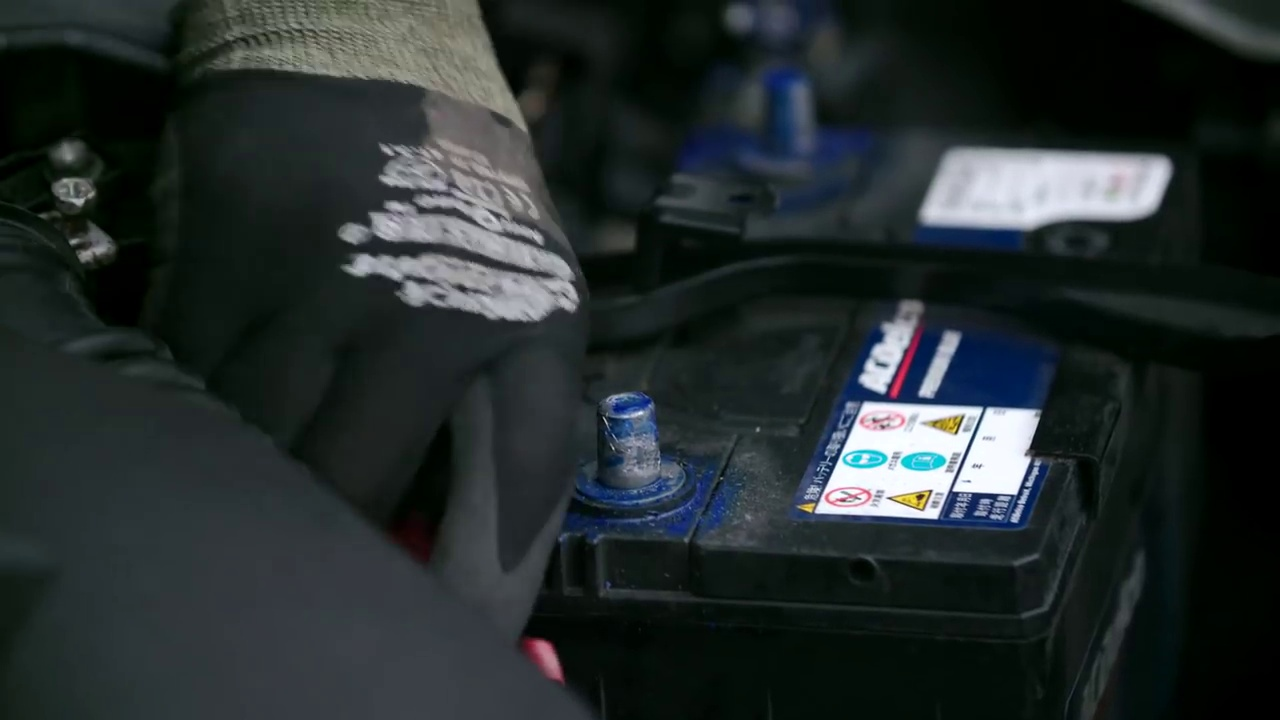battery: (536, 97, 1184, 594)
